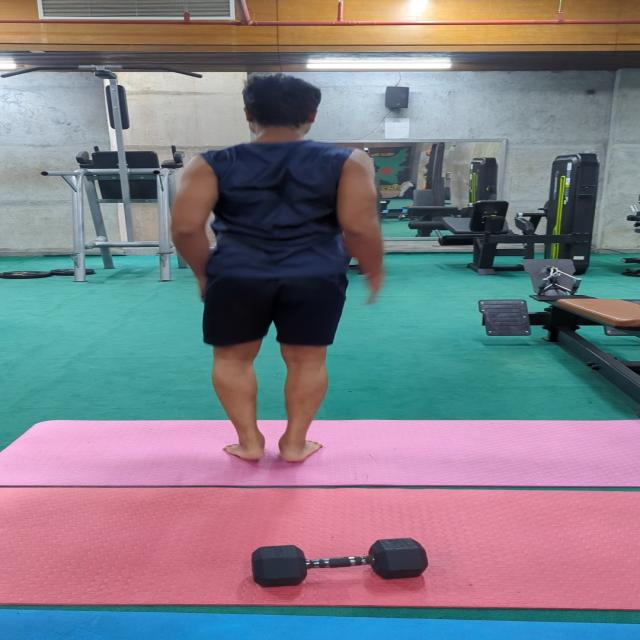Normal_JumpingJacks: (152, 64, 429, 468)
